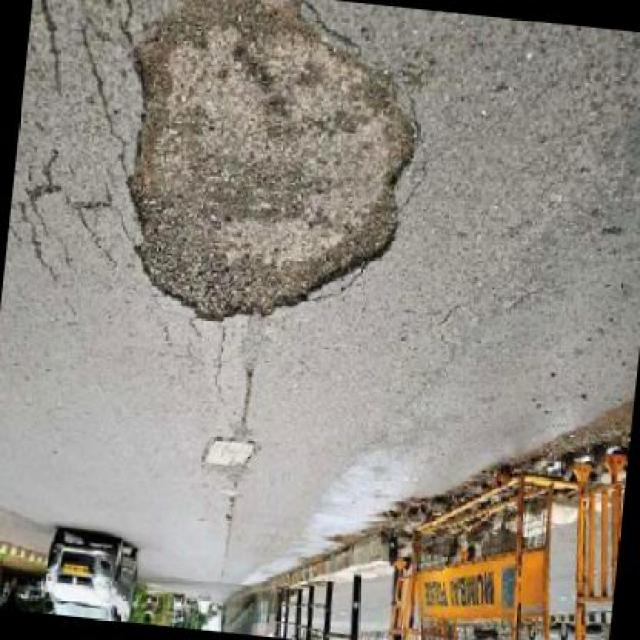pothole1: (105, 0, 437, 354)
